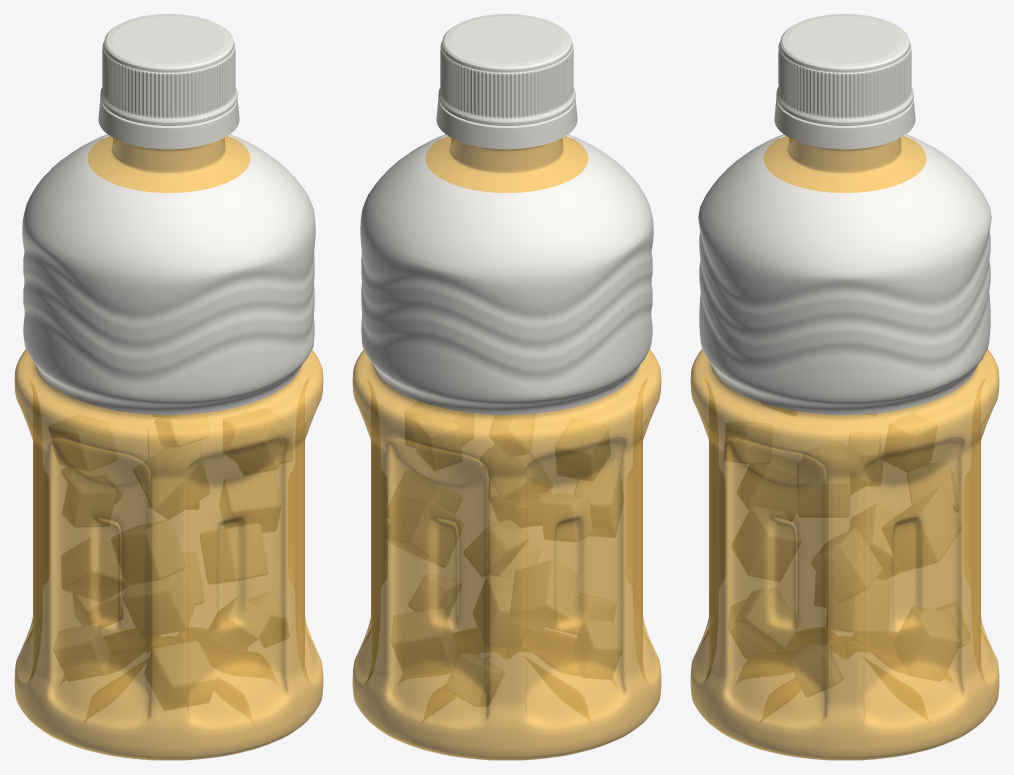
Rendered from pet-320-nata.glb.
3 views of the same model, side by side, from view 1: azimuth 30°, elevation 25°; view 2: azimuth 150°, elevation 25°; view 3: azimuth 270°, elevation 25° (orthographic).
Visible parts, largest first — view 1: liquid, label, inclusions, cap; view 2: liquid, label, inclusions, cap; view 3: liquid, label, inclusions, cap.
Part boxes in pixels (x1,y1,x2,y2): liquid: (14,136,323,760); label: (22,134,315,414); inclusions: (49,397,291,710); cap: (98,14,239,149); liquid: (352,136,661,760); label: (360,134,653,414); inclusions: (383,401,623,705); cap: (436,14,577,149); liquid: (690,136,999,760); label: (698,134,991,414); inclusions: (724,403,969,696); cap: (774,14,915,149).
Size of the model in its own units: 0.0635 by 0.1498 by 0.0635.
